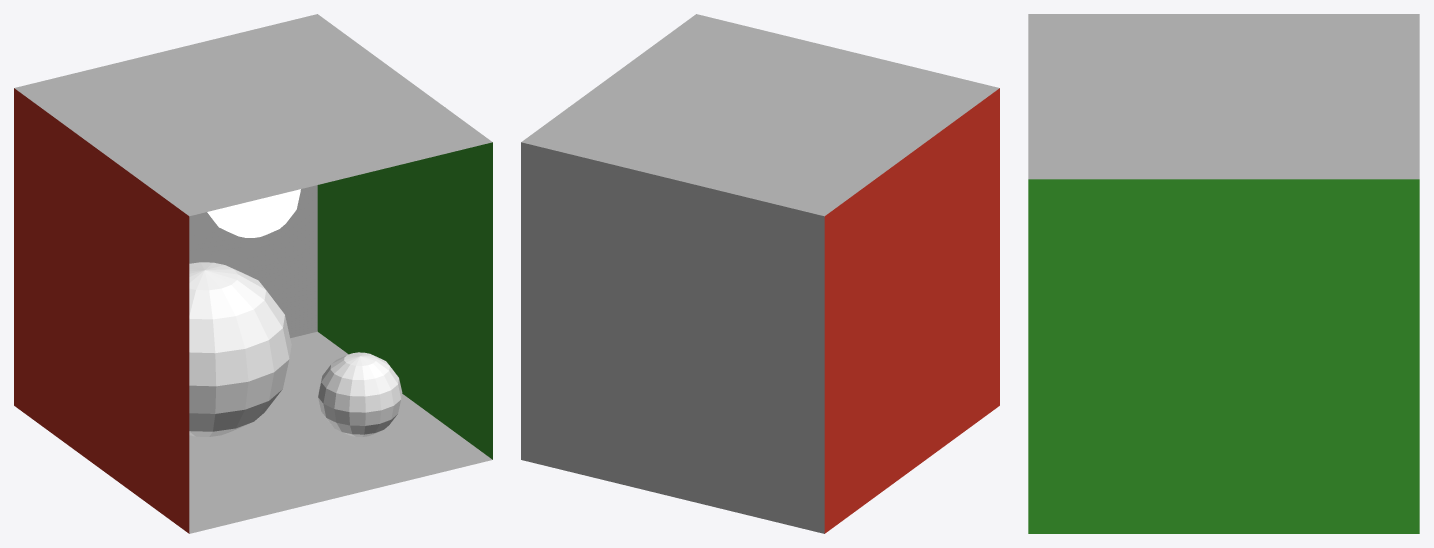
The model's file is cornell-box.gltf.
3 views of the same model, side by side, from view 1: azimuth 30°, elevation 25°; view 2: azimuth 150°, elevation 25°; view 3: azimuth 270°, elevation 25° (orthographic). The views are drawn at different scales.
Parts seen in each view (by area): view 1: Plane.001, Plane.004, Plane.002, Plane, Sphere, Plane.003, Sphere.001, Sphere.002; view 2: Plane.003, Plane.001, Plane.004; view 3: Plane.002, Plane.004.
Boxes of the visible parts, bbox=[...] form: Plane.001: bbox=[14, 88, 189, 533]; Plane.004: bbox=[14, 14, 492, 216]; Plane.002: bbox=[317, 142, 492, 459]; Plane: bbox=[189, 331, 492, 533]; Sphere: bbox=[189, 262, 291, 436]; Plane.003: bbox=[189, 185, 317, 338]; Sphere.001: bbox=[318, 352, 402, 436]; Sphere.002: bbox=[207, 189, 300, 237]; Plane.003: bbox=[521, 142, 824, 533]; Plane.001: bbox=[824, 88, 999, 533]; Plane.004: bbox=[521, 14, 999, 216]; Plane.002: bbox=[1028, 179, 1419, 533]; Plane.004: bbox=[1028, 14, 1419, 179].
Size of the model in its own units: 4 by 4 by 4.
